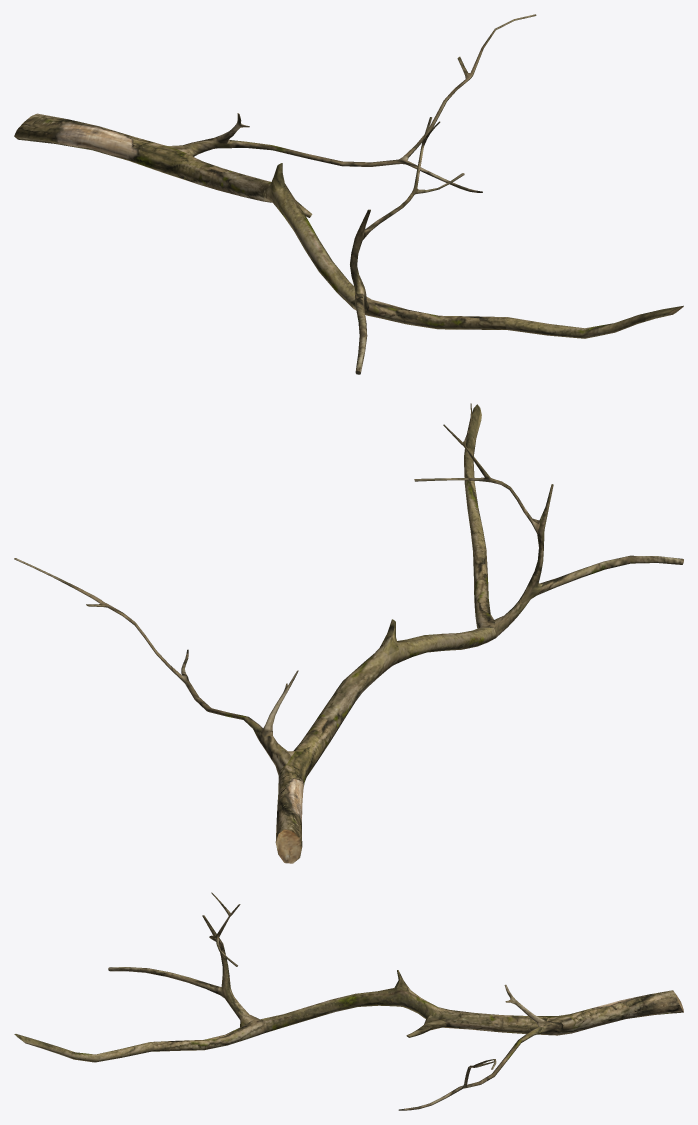
Rendered from galhos.glb.
The picture shows the model from 3 angles, top to bottom: view 1: azimuth 30°, elevation 25°; view 2: azimuth 150°, elevation 25°; view 3: azimuth 270°, elevation 25°; orthographic projection. The views are drawn at different scales.
Visible parts, largest first — view 1: branche_Material #0_0; view 2: branche_Material #0_0; view 3: branche_Material #0_0.
Boxes of the visible parts, x1,y1,x2,y2 form: branche_Material #0_0: [14, 14, 683, 374]; branche_Material #0_0: [14, 403, 683, 863]; branche_Material #0_0: [14, 892, 683, 1110].
Bounding box in the file's own units: 0.8925 × 0.4214 × 1.56.
1 material, 1 textured.
